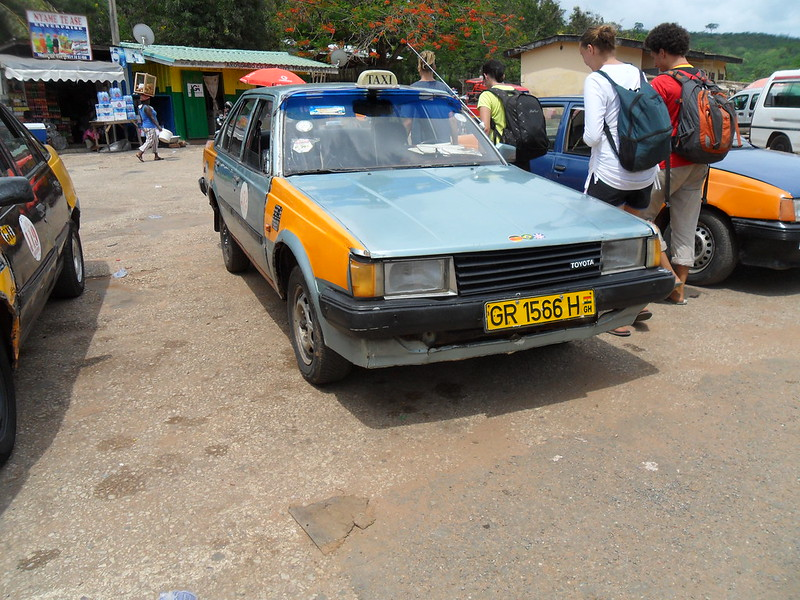number_plate: (479, 287, 599, 333)
